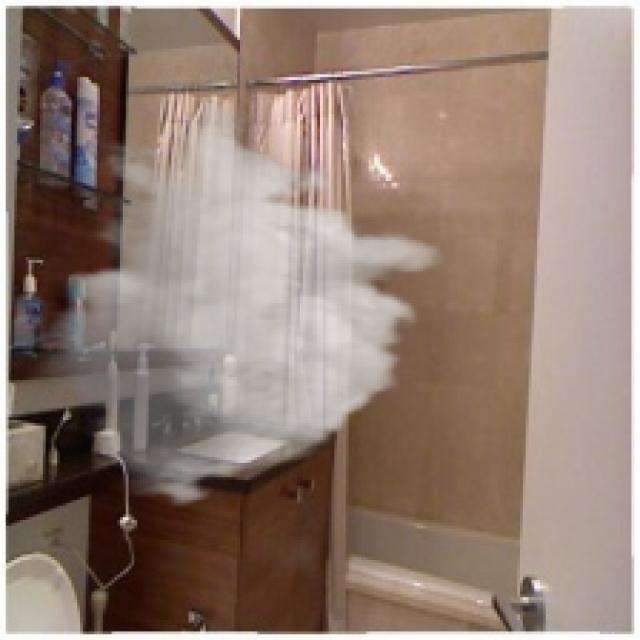Smoke: (26, 100, 448, 509)
